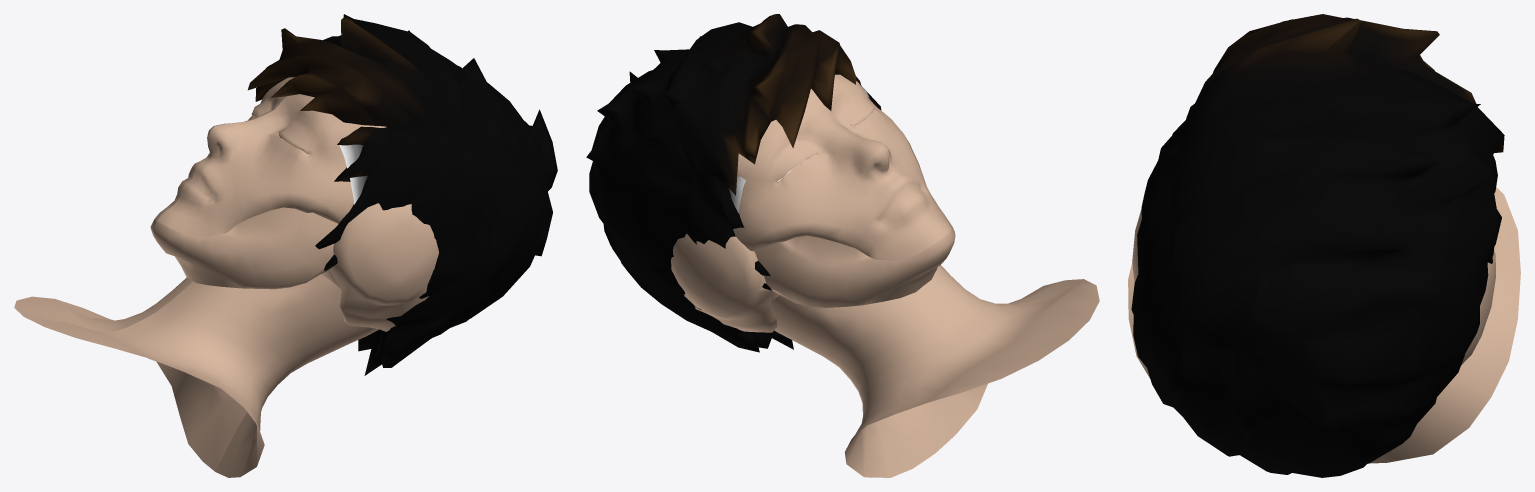
Rendered from SM_Head.fbx.
3 renders of one model, left to right at view 1: azimuth 30°, elevation 25°; view 2: azimuth 150°, elevation 25°; view 3: azimuth 270°, elevation 25°, orthographic. The views are drawn at different scales.
Visible parts, largest first — view 1: SM_Head; view 2: SM_Head; view 3: SM_Head.
Boxes of the visible parts, box(x1,y1,x2,y2) form: SM_Head: box(14, 14, 557, 477); SM_Head: box(586, 14, 1099, 477); SM_Head: box(1128, 14, 1520, 477).
Size of the model in its own units: 161 by 128 by 83.46.
